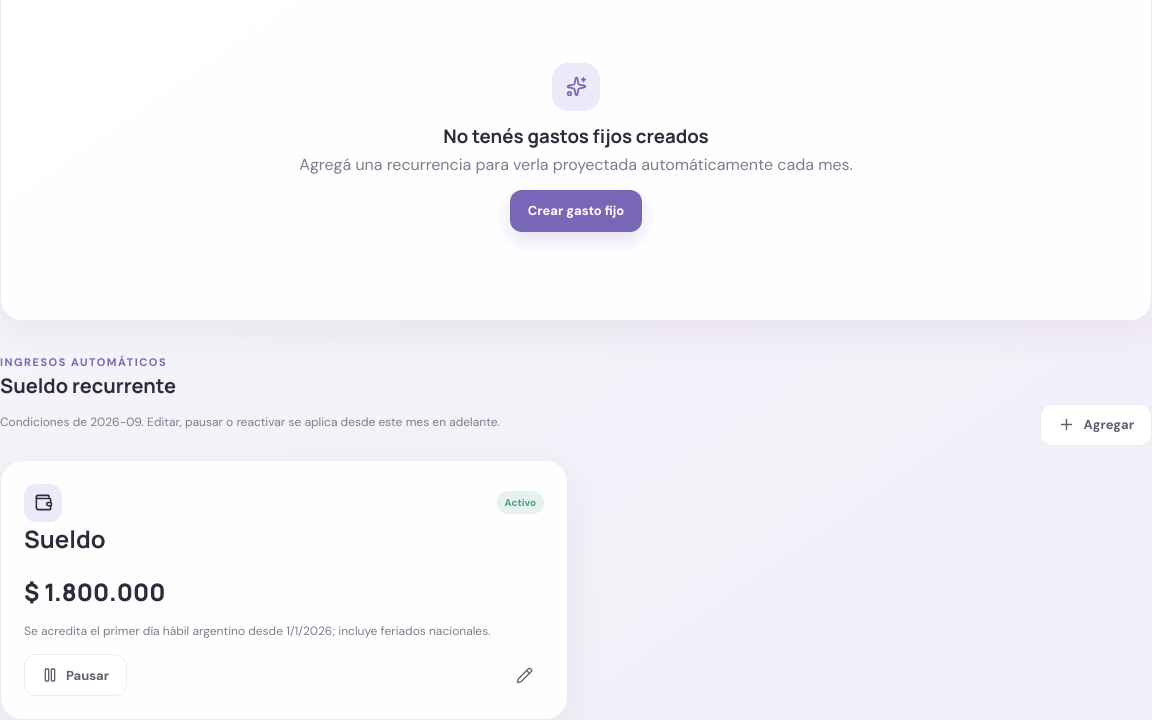
Test: recurrence date forms › edits the salary terms for the selected month instead of the latest future terms
(page scrolled)
Check: the button "Pausar" is shown, box [24,654,127,696]
Click the button named "Editar Sueldo": (524, 675) [504,655,544,695]
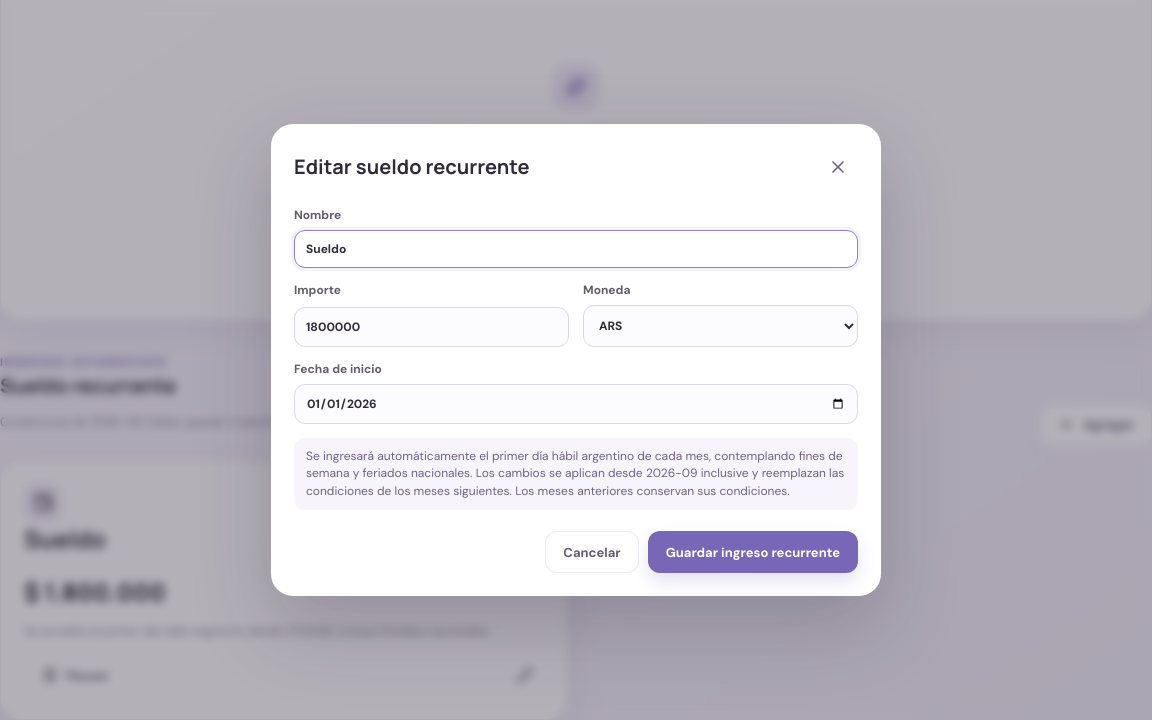
Check: the number field labelled "Importe" holds "1800000", box [294,307,569,347]
Check: the text "Los cambios se aplican desde 2026-09 inclusive" is shown, box [294,438,858,510]
